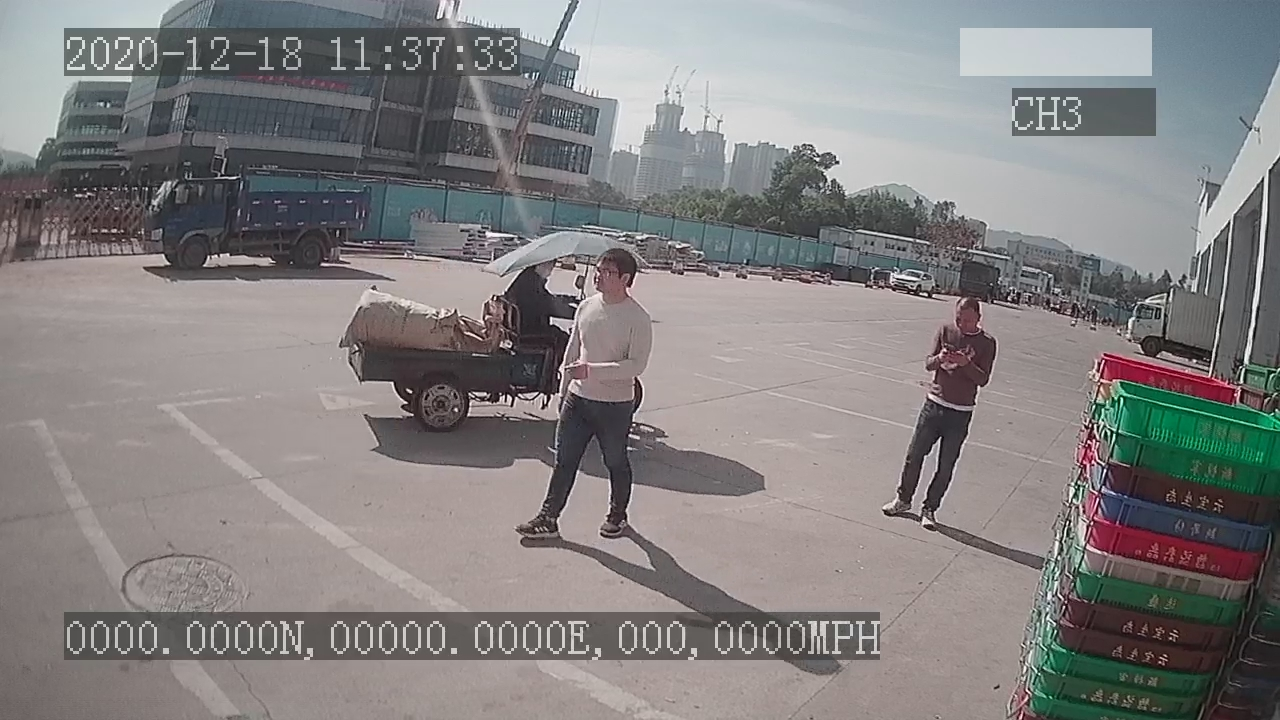person: (880, 295, 999, 532)
